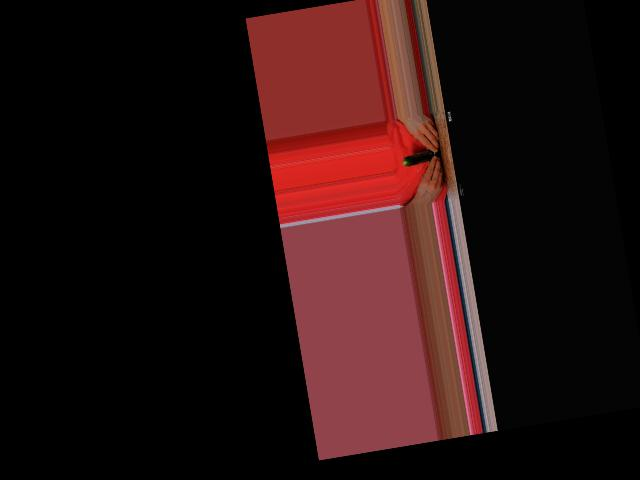cucumber: (401, 149, 441, 167)
